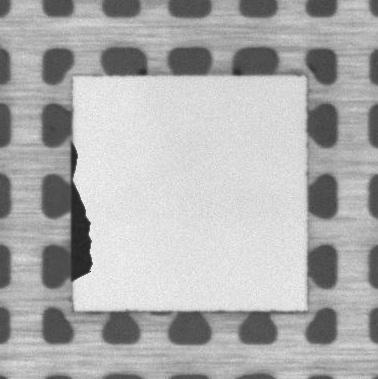DIE_BROKEN: (68, 134, 95, 283)
